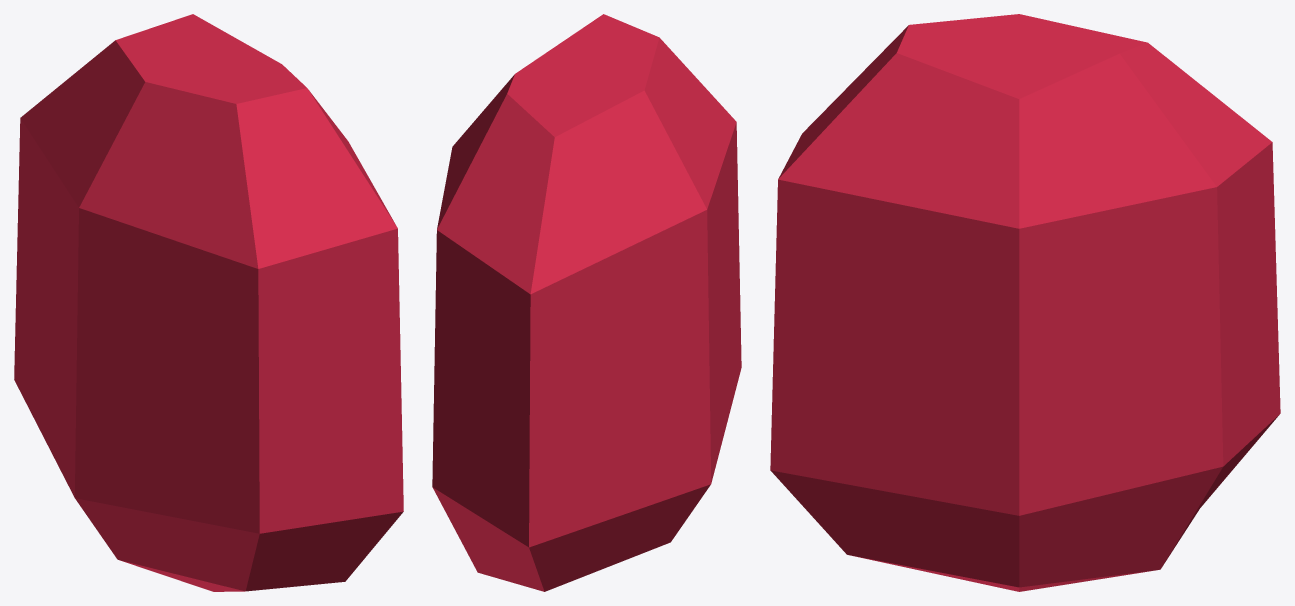
File: SM_Ruby_Flawed.fbx
3 renders of one model, left to right at view 1: azimuth 30°, elevation 25°; view 2: azimuth 150°, elevation 25°; view 3: azimuth 270°, elevation 25°, orthographic. The views are drawn at different scales.
Visible parts, largest first — view 1: SM_Ruby_Flawed; view 2: SM_Ruby_Flawed; view 3: SM_Ruby_Flawed.
Boxes of the visible parts, x1=… form: SM_Ruby_Flawed: x1=14, y1=14, x2=403, y2=591; SM_Ruby_Flawed: x1=432, y1=14, x2=741, y2=591; SM_Ruby_Flawed: x1=770, y1=14, x2=1280, y2=591.
Bounding box in the file's own units: 9.36 × 14.42 × 17.35.
